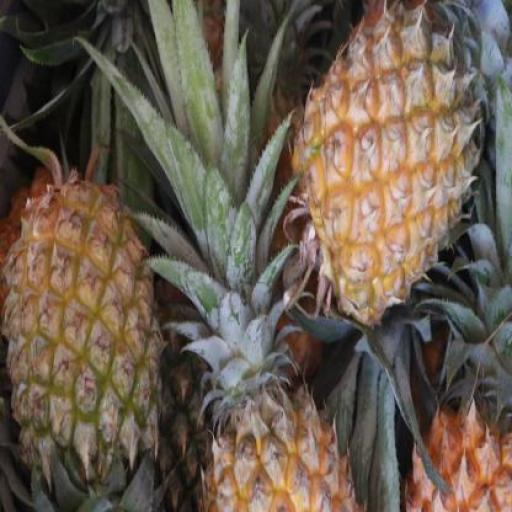------------------------------: (5, 180, 165, 478)
Pineapple - v8 v1: (286, 8, 498, 328), (187, 389, 363, 512)
